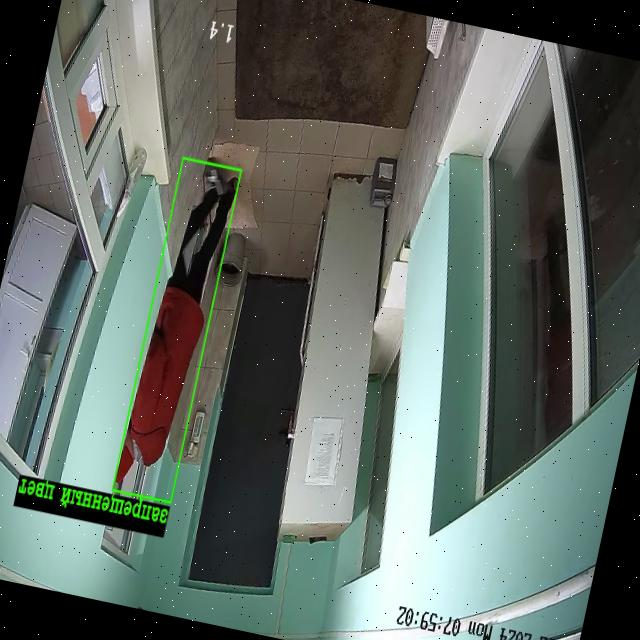Person: (116, 170, 238, 482)
